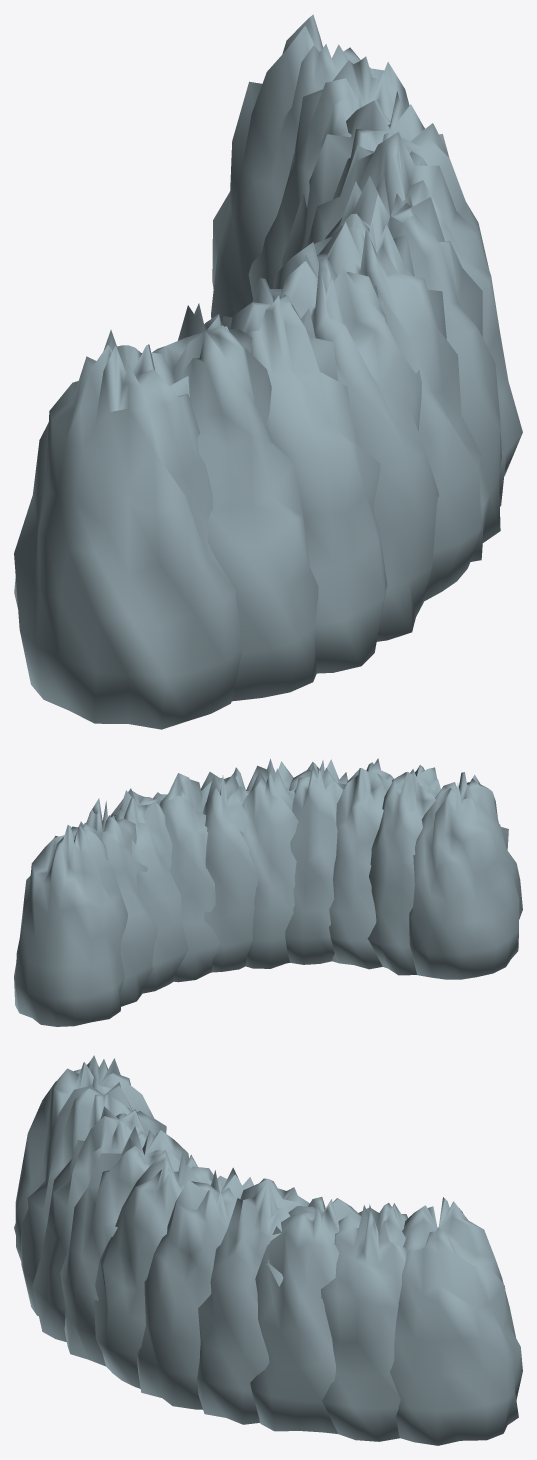
Rendered from underwater-reef-worlds-blue-hole-rim-70dfeae4__7056.glb.
The picture shows the model from 3 angles, top to bottom: view 1: azimuth 30°, elevation 25°; view 2: azimuth 150°, elevation 25°; view 3: azimuth 270°, elevation 25°; orthographic projection. The views are drawn at different scales.
Visible parts, largest first — view 1: blue-hole-rim; view 2: blue-hole-rim; view 3: blue-hole-rim.
Boxes of the visible parts, left/top/right/bottom form: blue-hole-rim: left=14, top=14, right=522, bottom=729; blue-hole-rim: left=14, top=758, right=522, bottom=1026; blue-hole-rim: left=14, top=1055, right=522, bottom=1445.
Bounding box in the file's own units: 2.79 × 1.43 × 3.
